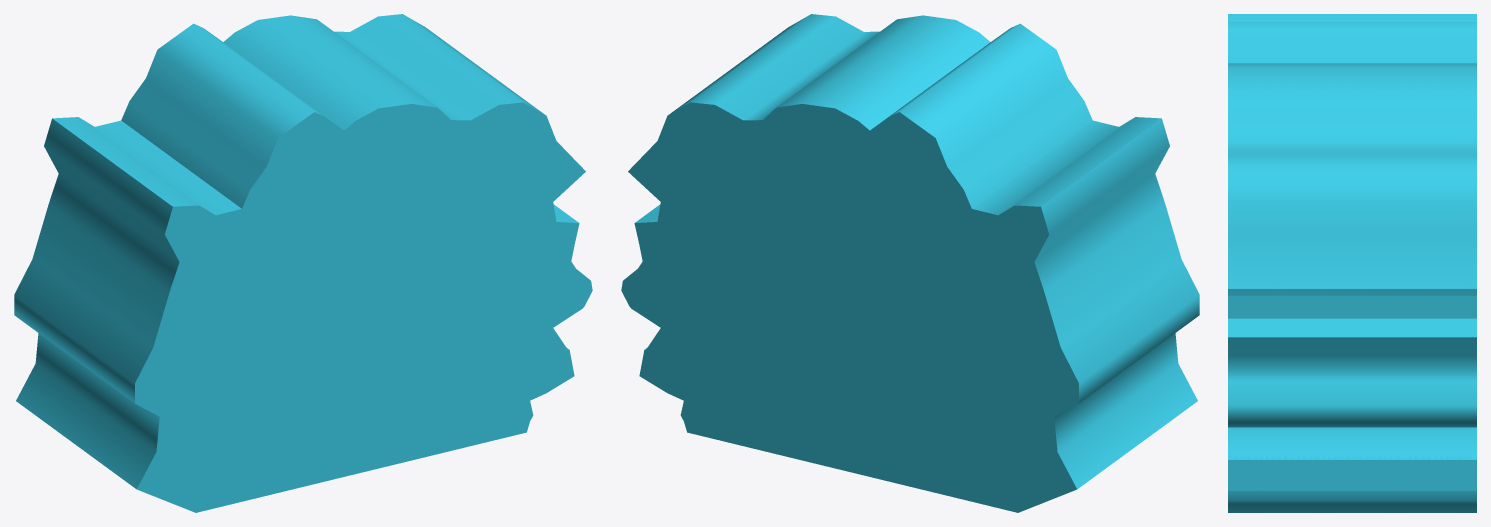
The model's file is Glacier.fbx.
3 views of the same model, side by side, from view 1: azimuth 30°, elevation 25°; view 2: azimuth 150°, elevation 25°; view 3: azimuth 270°, elevation 25° (orthographic). The views are drawn at different scales.
Parts seen in each view (by area): view 1: node_id29; view 2: node_id29; view 3: node_id29.
Boxes of the visible parts, x1,y1,x2,y2 form: node_id29: (14, 14, 592, 512); node_id29: (621, 14, 1199, 512); node_id29: (1228, 14, 1476, 512).
Size of the model in its own units: 0.512 by 0.3981 by 0.2342.
1 material, 1 textured.
